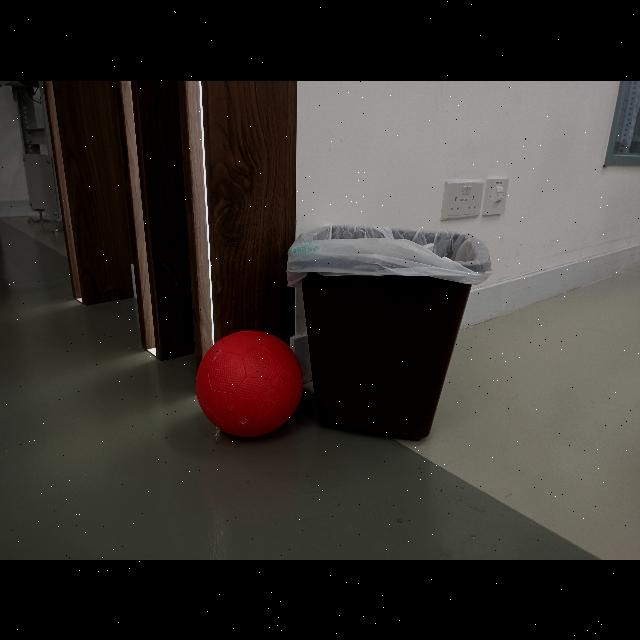R: (190, 327, 310, 443)
